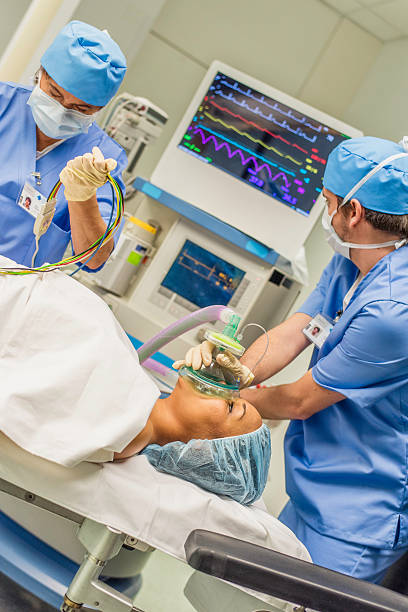bedside_monitor: (190, 57, 351, 227)
breathing_tube: (126, 298, 266, 372)
operating_bed: (1, 426, 322, 611)
patient: (1, 262, 274, 509)
staff: (175, 131, 408, 612), (3, 17, 129, 278)
